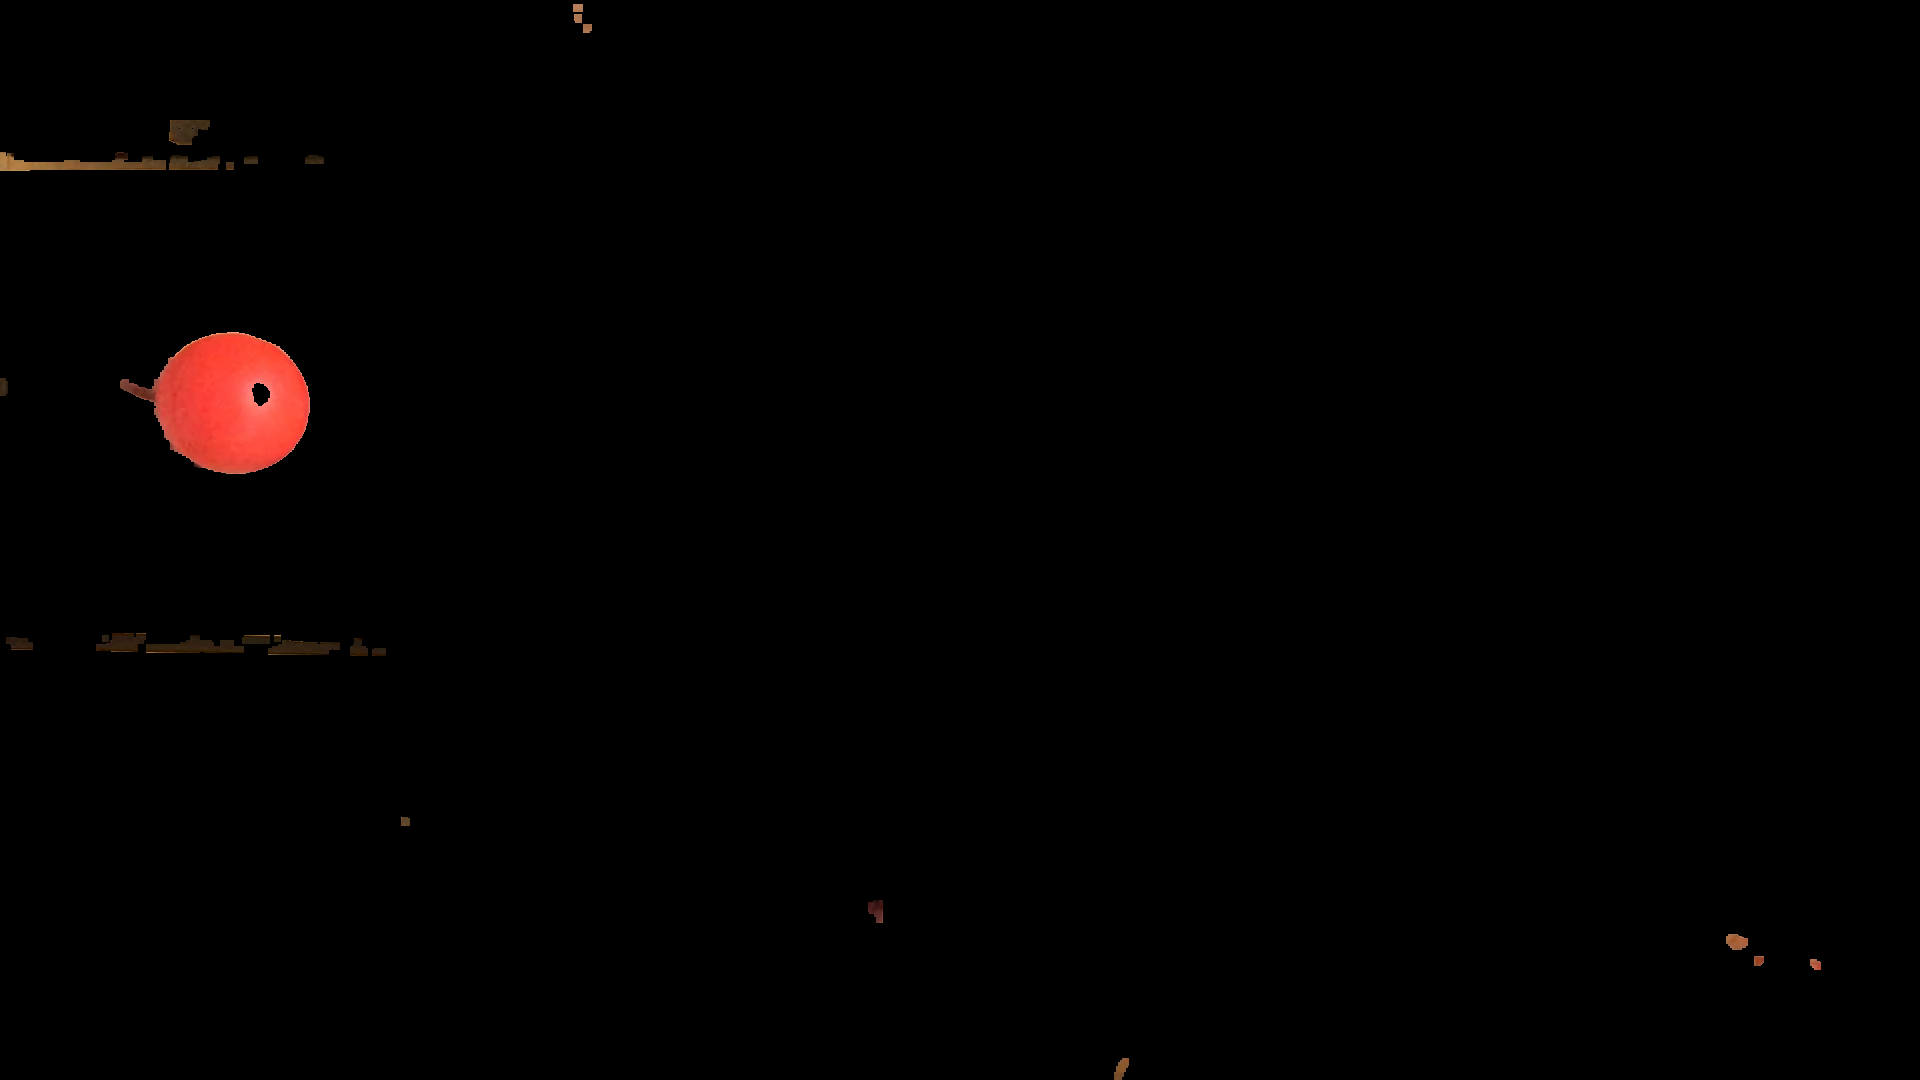Ball: (161, 334, 311, 469)
